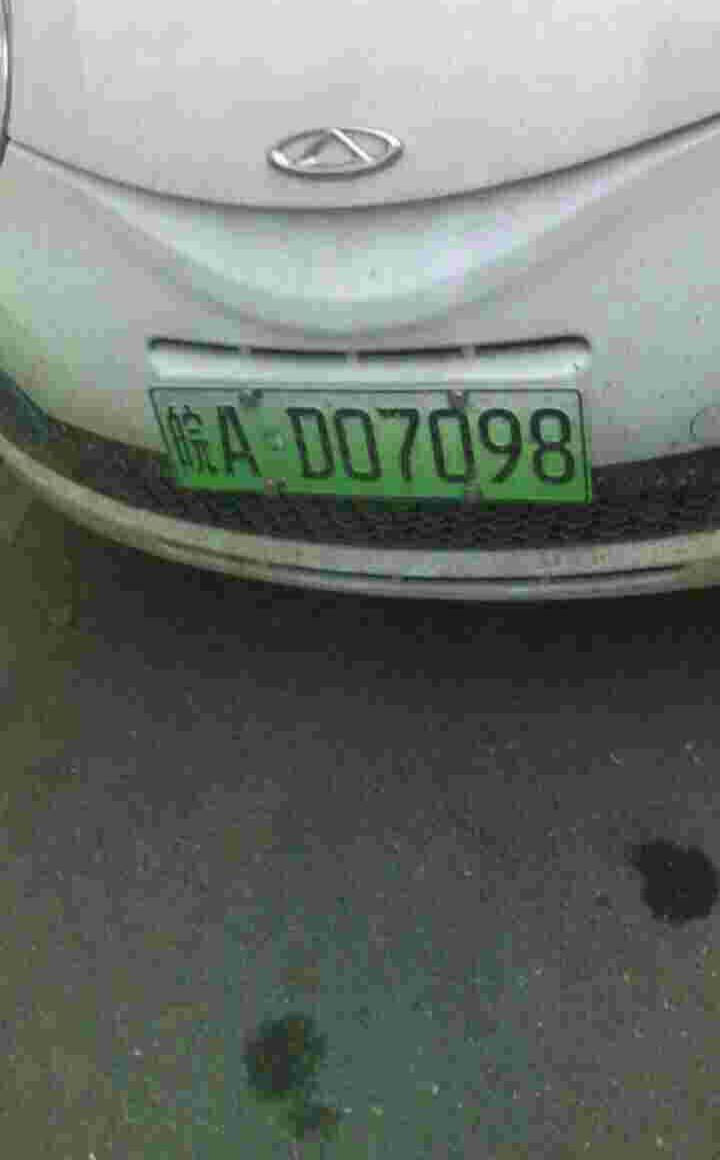car_id: (154, 390, 582, 499)
